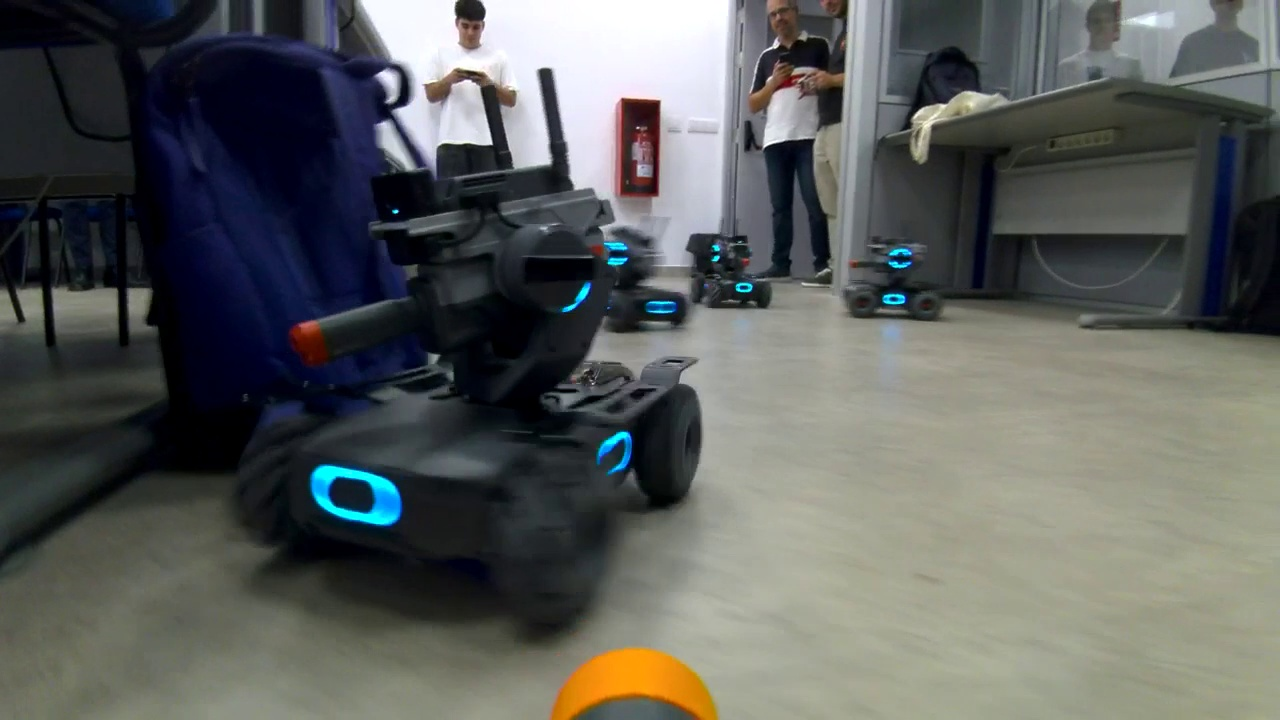robot: (227, 70, 702, 629), (571, 207, 692, 331), (842, 223, 949, 327), (688, 219, 782, 313)
